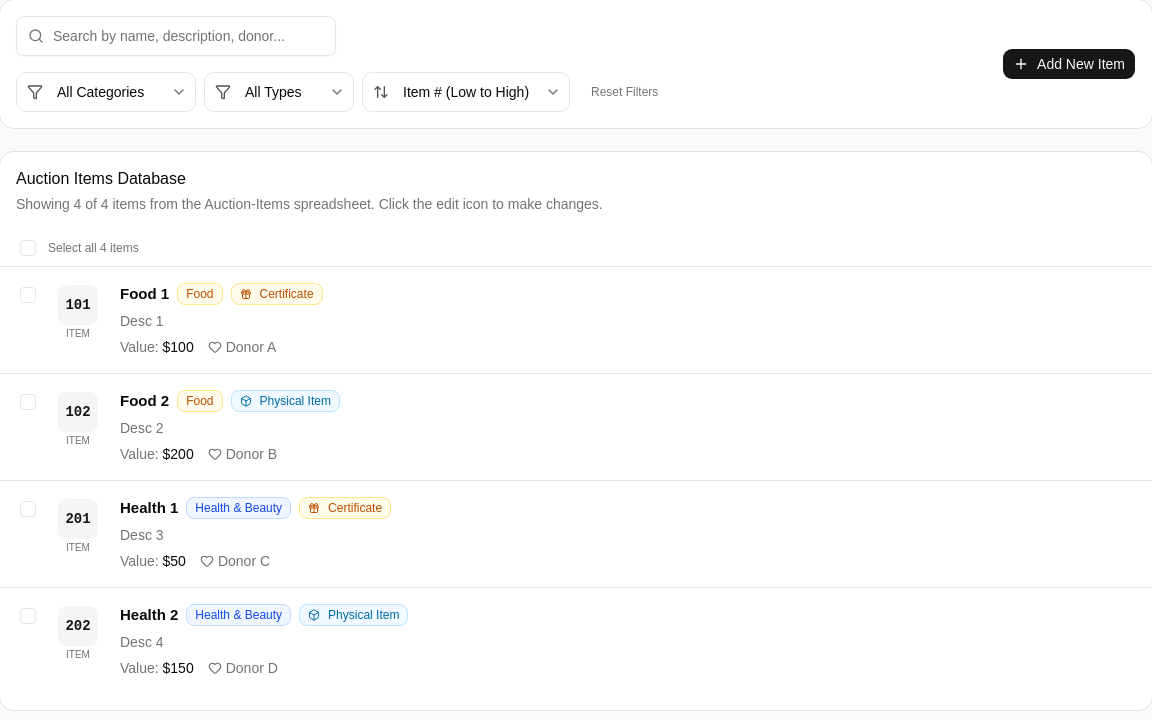
Test: AuctionItemsTab - Sort and Filter › Category filter - selecting 'Food' shows only Food items
The width and height of the screenshot is (1152, 720).
Click the dropdown named "Filter by category" at (106,92), box [16, 72, 196, 112]
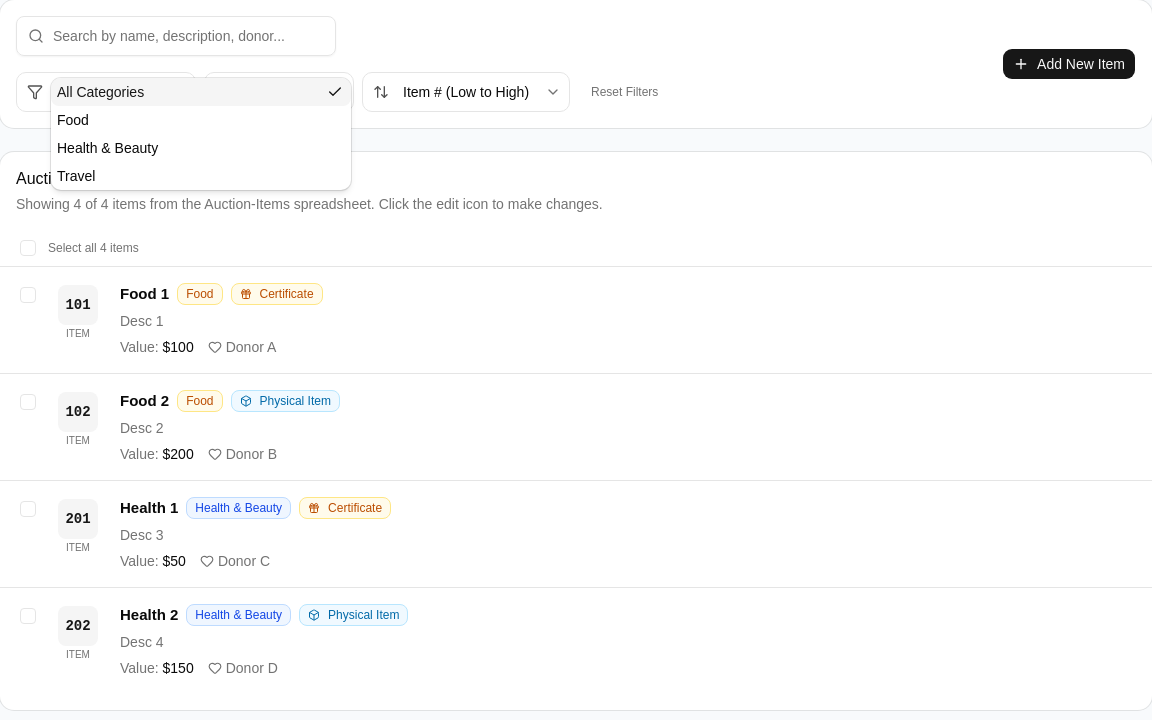
Click the option "Food" at (73,120), box [57, 112, 89, 128]
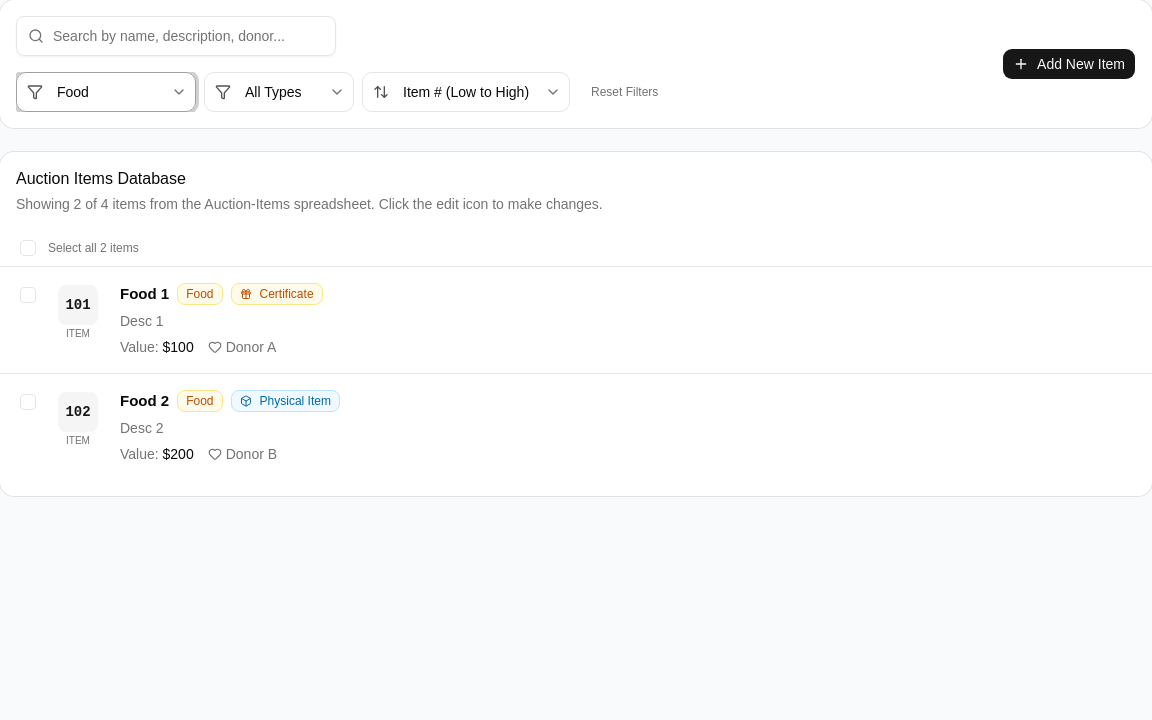
Now the dropdown named "Filter by category" shows "Food", box [16, 72, 196, 112]
Now the text "Health 1" is gone
Now the text "Health 2" is gone
